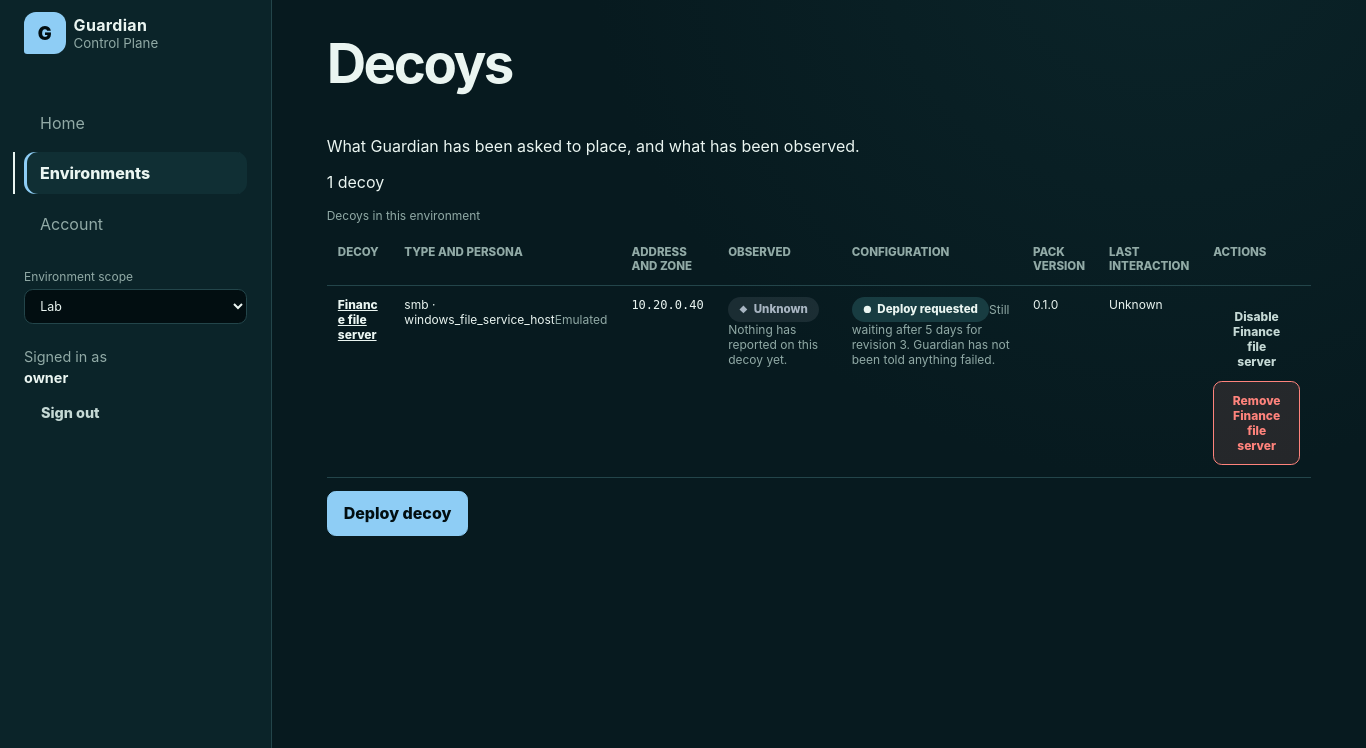
Test: the decoy configuration form › says the persona is an emulation
Check: the row "Finance file server" is shown, box [327,285,1311,477]
Click the button "Deploy decoy": click(398, 514) [327,491,468,536]
(page scrolled)
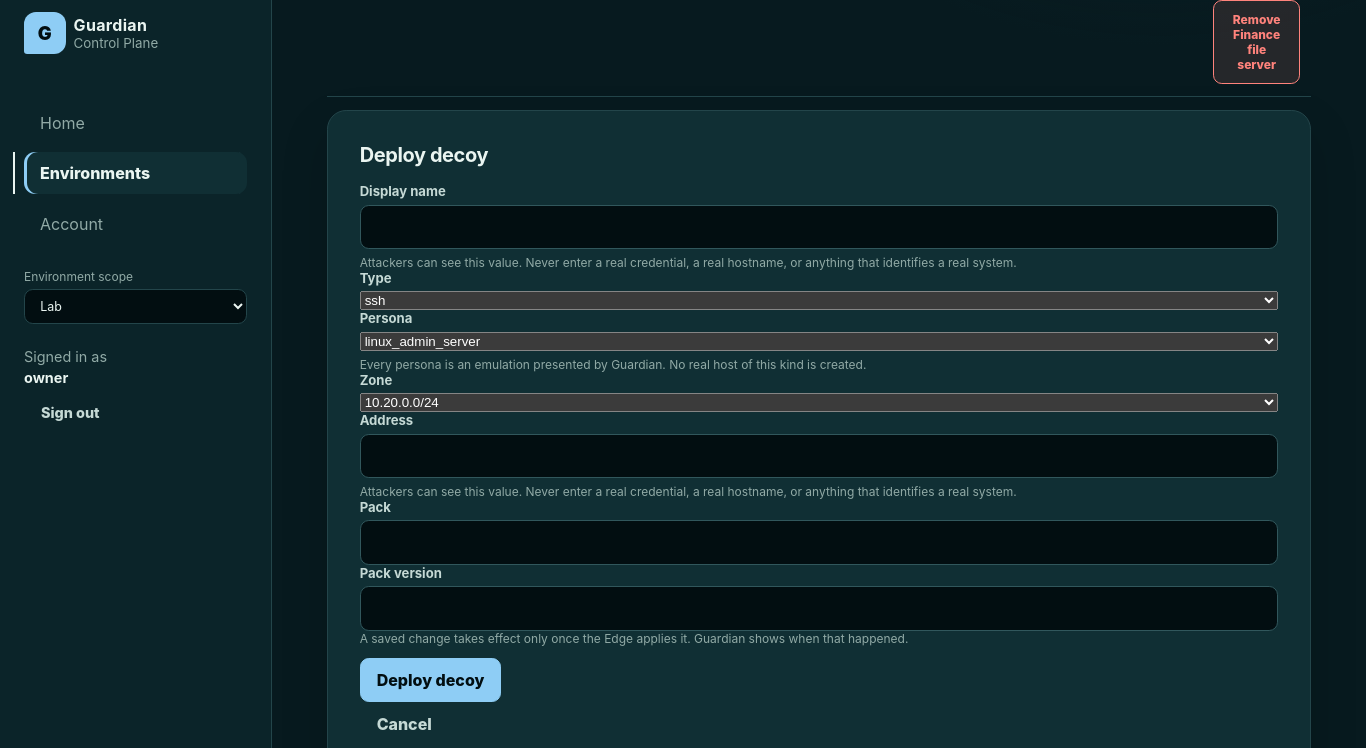
Check: the text "Every persona is an emulation presented by Guardian" is shown, box [360,357,866,372]
